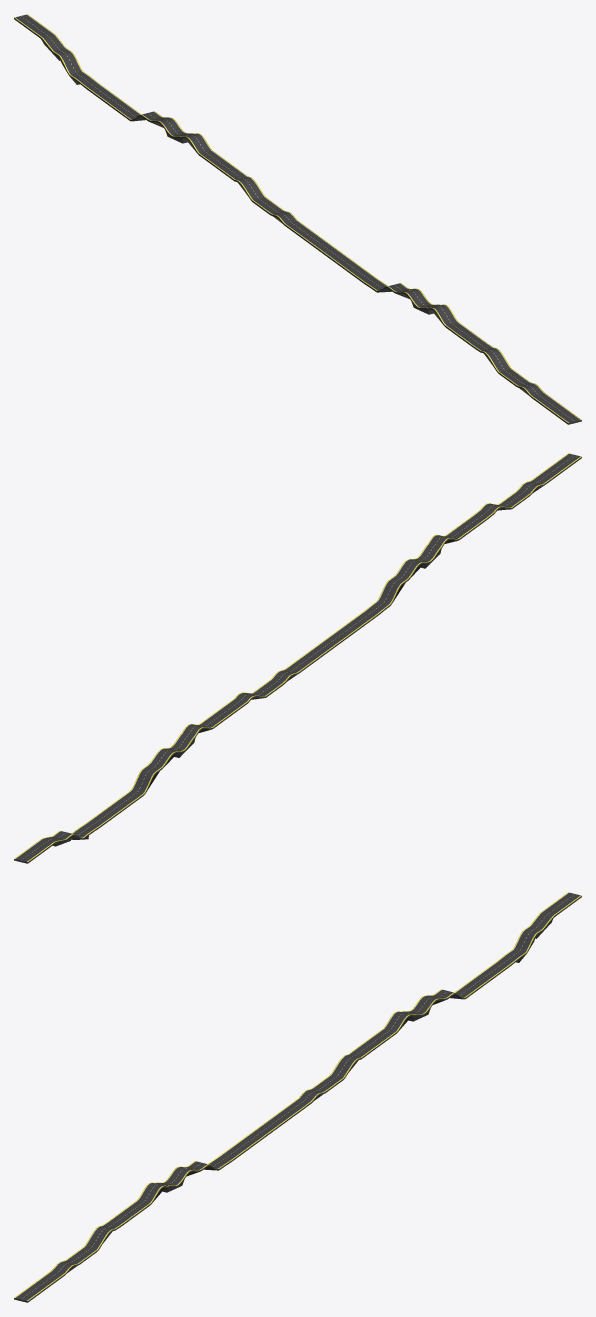
File: platformfinal1.1.fbx
3 renders of one model, top to bottom at view 1: azimuth 30°, elevation 25°; view 2: azimuth 150°, elevation 25°; view 3: azimuth 330°, elevation 25°, orthographic.
Parts seen in each view (by area): view 1: Cube.001; view 2: Cube.001; view 3: Cube.001.
Boxes of the visible parts, box(x1,y1,x2,y2) form: Cube.001: box(14, 14, 581, 424); Cube.001: box(14, 453, 581, 863); Cube.001: box(14, 892, 581, 1302).
Bounding box in the file's own units: 572 × 1528 × 39836.
Materials: 1 (1 with a texture image).
